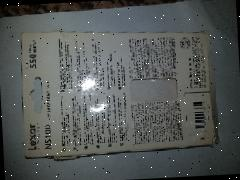paper: (17, 22, 218, 160)
